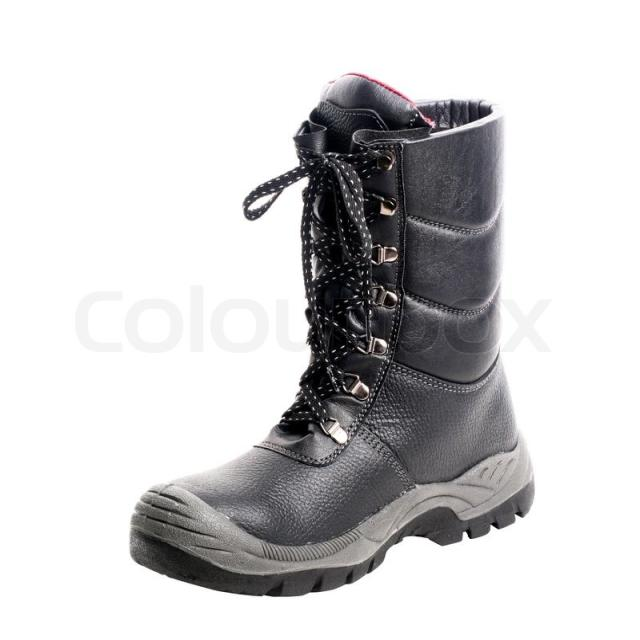boot: (66, 68, 567, 583)
